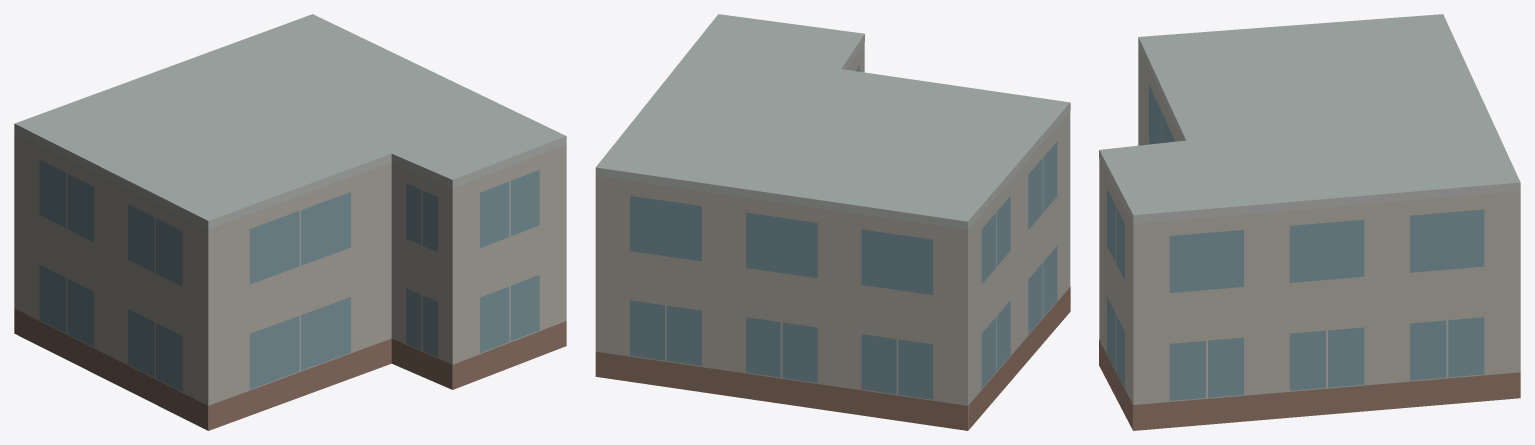
Rendered from survey-upis-32613774.glb.
3 renders of one model, left to right at view 1: azimuth 30°, elevation 25°; view 2: azimuth 150°, elevation 25°; view 3: azimuth 270°, elevation 25°, orthographic. The views are drawn at different scales.
Visible parts, largest first — view 1: survey-upis-32613774.tmp; view 2: survey-upis-32613774.tmp; view 3: survey-upis-32613774.tmp.
Boxes of the visible parts, x1,y1,x2,y2 form: survey-upis-32613774.tmp: [14, 14, 566, 430]; survey-upis-32613774.tmp: [595, 14, 1070, 430]; survey-upis-32613774.tmp: [1099, 14, 1520, 430].
Bounding box in the file's own units: 12.22 × 6.1 × 10.81.
